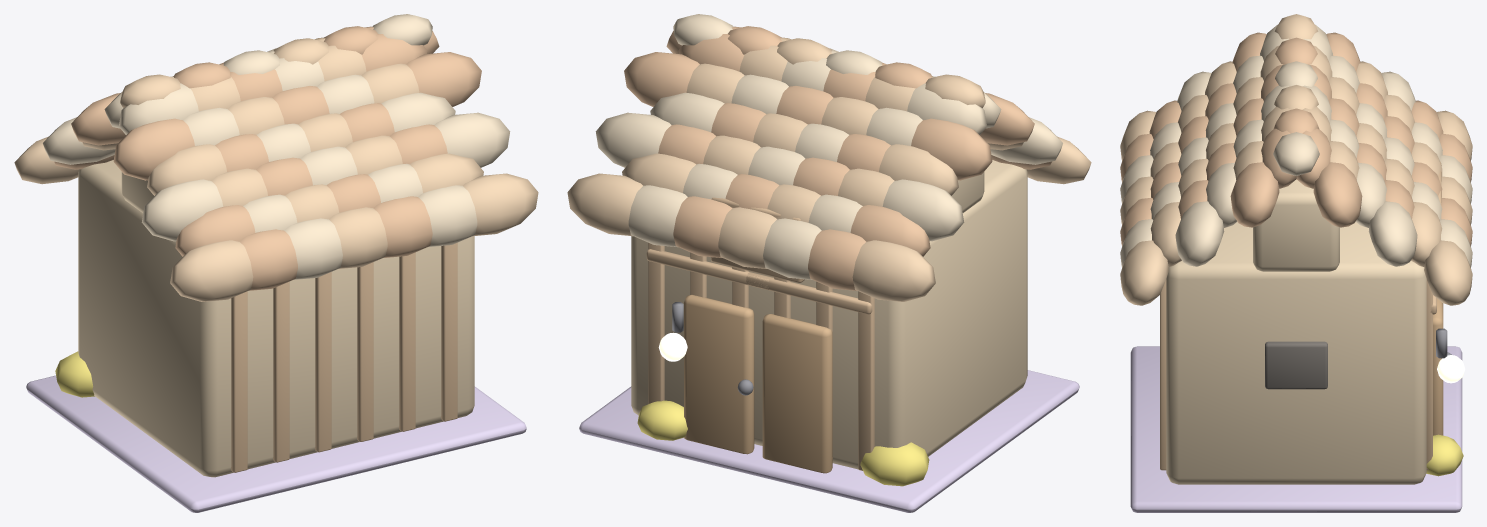
The model's file is cozy_barn_small_A.glb.
3 views of the same model, side by side, from view 1: azimuth 30°, elevation 25°; view 2: azimuth 150°, elevation 25°; view 3: azimuth 270°, elevation 25° (orthographic). The views are drawn at different scales.
Parts seen in each view (by area): view 1: Body, Base, Roof_B_0_0, Roof_B_0_6, Roof_B_2_0, Roof_B_4_0, PlankB0, PlankB1, PlankB2, PlankB4, PlankB5, PlankB3 (+46 smaller); view 2: Body, Base, DoorL, DoorR, Roof_F_0_0, Roof_F_0_6, Roof_F_2_0, Roof_F_4_0, Roof_F_2_6, Roof_F_4_6, Roof_F_0_5, PlankF0 (+49 smaller); view 3: Body, Base, Gable, SideWin, Roof_B_0_6, Roof_F_0_6, Roof_B_2_6, Roof_B_4_6, Roof_F_2_6, Roof_F_4_6, Roof_Ridge_5, Roof_B_3_5 (+71 smaller).
Boxes of the visible parts, x1,y1,x2,y2 form: Body: (78, 160, 474, 477); Base: (26, 375, 526, 512); Roof_B_0_0: (170, 240, 253, 301); Roof_B_0_6: (463, 173, 538, 236); Roof_B_2_0: (141, 179, 223, 241); Roof_B_4_0: (113, 118, 194, 180); PlankB0: (231, 291, 247, 472); PlankB1: (273, 281, 289, 462); PlankB2: (315, 272, 331, 452); PlankB4: (399, 252, 415, 431); PlankB5: (441, 242, 457, 421); PlankB3: (357, 262, 373, 441); Body: (631, 160, 1027, 469); Base: (579, 370, 1079, 512); DoorL: (762, 314, 832, 473); DoorR: (684, 295, 754, 454); Roof_F_0_0: (852, 240, 935, 301); Roof_F_0_6: (567, 173, 642, 236); Roof_F_2_0: (882, 179, 964, 241); Roof_F_4_0: (911, 118, 992, 180); Roof_F_2_6: (595, 112, 671, 167); Roof_F_4_6: (624, 52, 699, 106); Roof_F_0_5: (628, 185, 687, 247); PlankF0: (858, 291, 874, 470); Body: (1166, 221, 1426, 484); Base: (1130, 346, 1462, 512); Gable: (1253, 179, 1339, 271); SideWin: (1265, 341, 1327, 389); Roof_B_0_6: (1120, 240, 1168, 305); Roof_F_0_6: (1424, 240, 1472, 305); Roof_B_2_6: (1175, 201, 1224, 266); Roof_B_4_6: (1230, 162, 1279, 227); Roof_F_2_6: (1368, 201, 1417, 266); Roof_F_4_6: (1313, 162, 1362, 227); Roof_Ridge_5: (1273, 132, 1319, 175); Roof_B_3_5: (1206, 162, 1236, 227).
Size of the model in its own units: 2.59 by 2.5 by 2.23.
